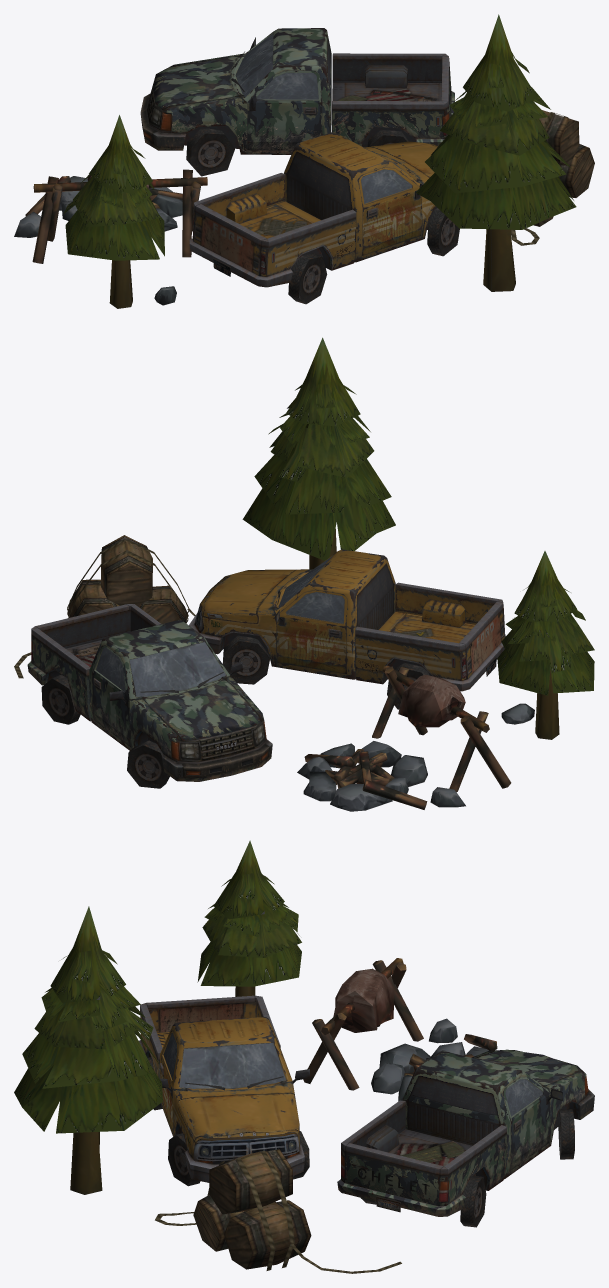
File: WMPickupParty1.FBX
3 renders of one model, top to bottom at view 1: azimuth 30°, elevation 25°; view 2: azimuth 150°, elevation 25°; view 3: azimuth 270°, elevation 25°, orthographic. The views are drawn at different scales.
Parts seen in each view (by area): view 1: Object134; view 2: Object134; view 3: Object134.
Part boxes in pixels (x1,y1,x2,y2): Object134: (14,14,594,308); Object134: (14,337,594,811); Object134: (14,840,594,1273).
Bounding box in the file's own units: 1.32 × 0.6631 × 1.21.
Materials: 1 (1 with a texture image).
